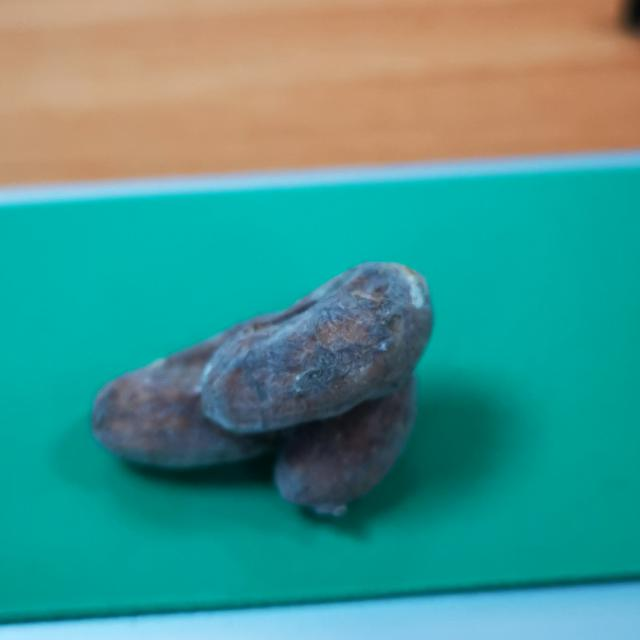Agglomerated_cocoabeans: (28, 246, 548, 565)
